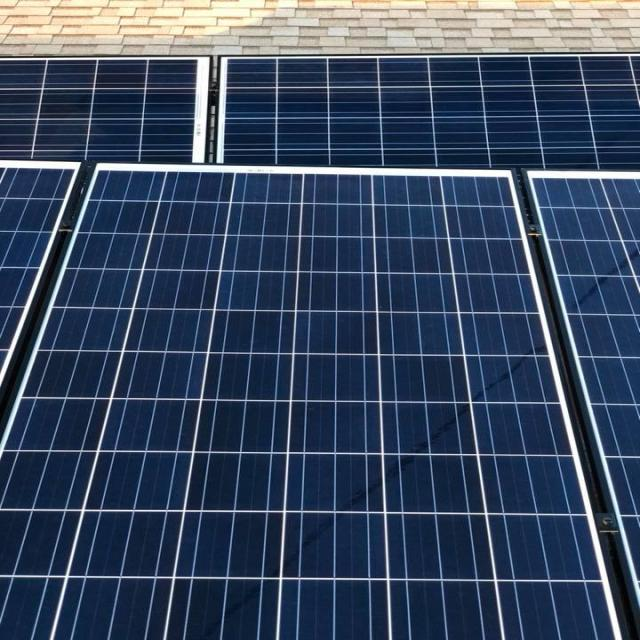clean-solar-panel: (2, 42, 638, 640)
